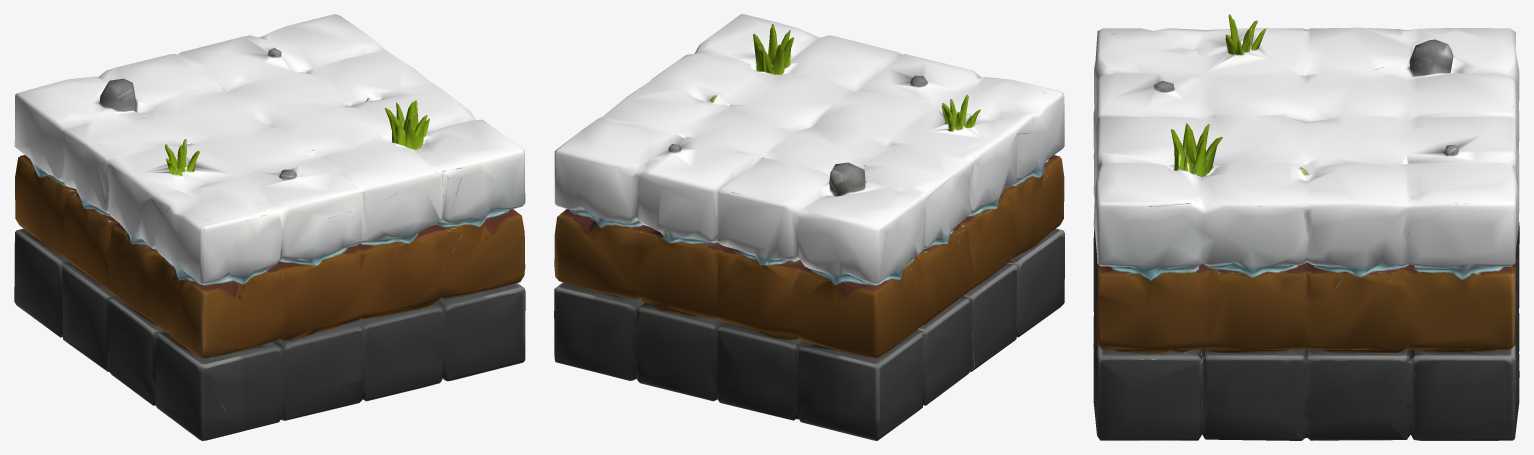
The model's file is Meshy_AI_Ruinforged_0518053609_texture.fbx.
The picture shows the model from 3 angles, left to right: view 1: azimuth 30°, elevation 25°; view 2: azimuth 150°, elevation 25°; view 3: azimuth 270°, elevation 25°; orthographic projection. The views are drawn at different scales.
Visible parts, largest first — view 1: Mesh1.0; view 2: Mesh1.0; view 3: Mesh1.0.
Part boxes in pixels (x1=…): Mesh1.0: x1=14, y1=14, x2=525, y2=440; Mesh1.0: x1=554, y1=14, x2=1064, y2=440; Mesh1.0: x1=1093, y1=14, x2=1519, y2=440.
Size of the model in its own units: 139 by 100 by 139.
1 material, 1 textured.
